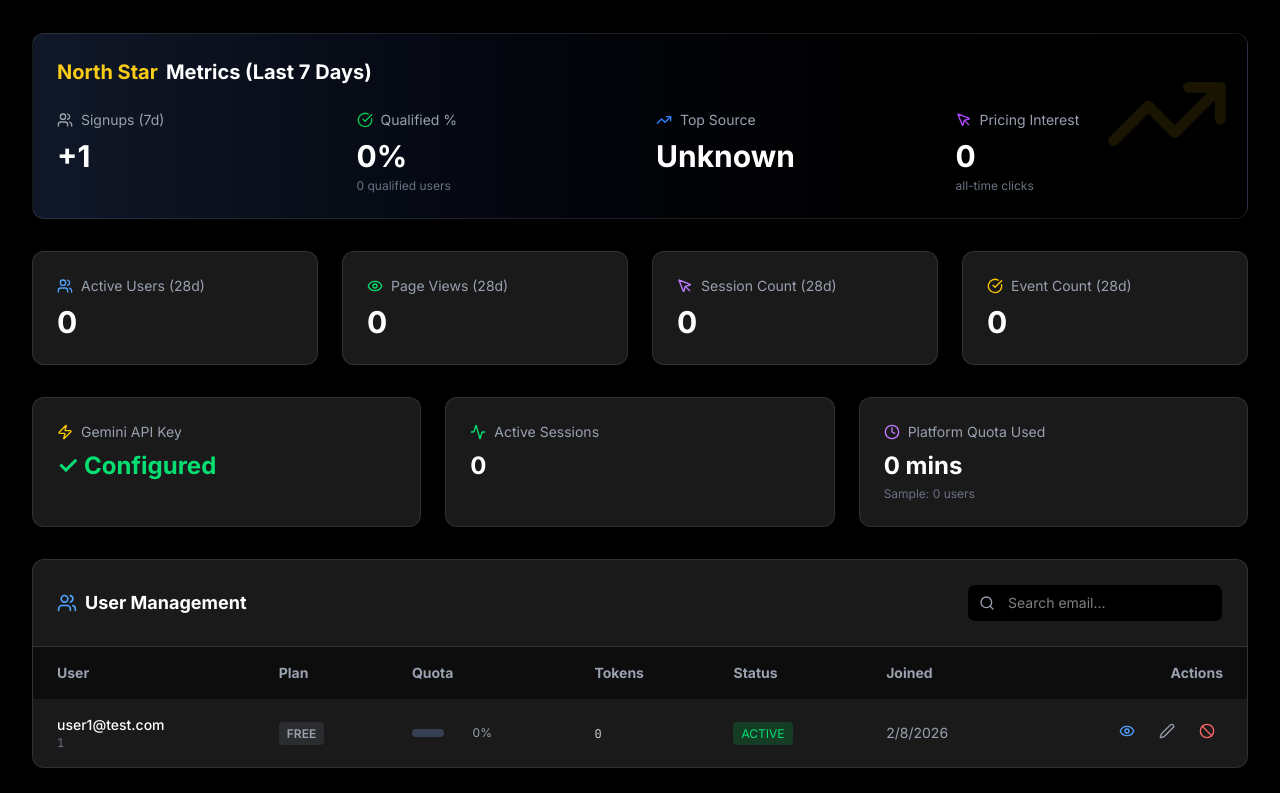
Test case: AdminDashboard › opens user details modal
(page scrolled)
Expected: the text "user1@test.com" is shown, [57,716,164,733]
What coordinates should you click on to do the following:
click the button titled "View Details"
I would click on:
 (1127, 731)
Its box is [1111,715,1143,747].
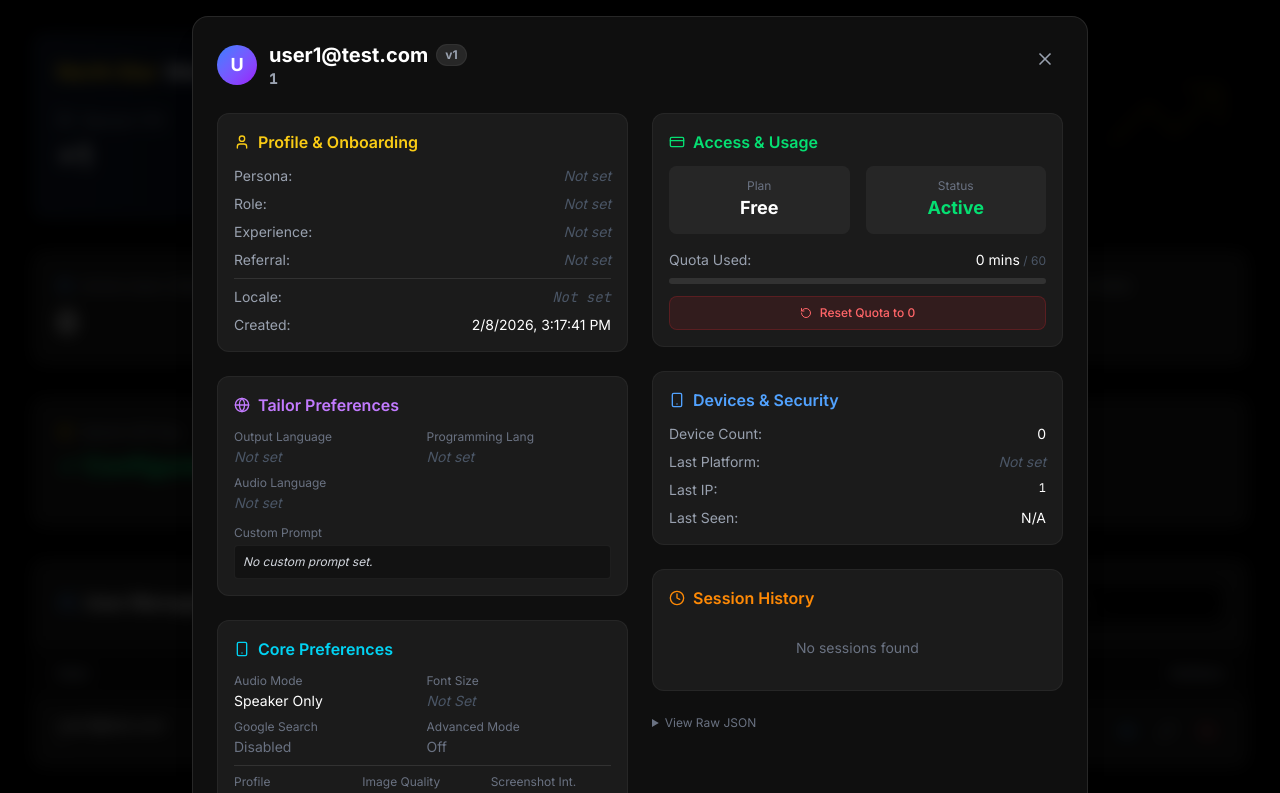
Result: the heading "Profile & Onboarding" is shown at [234,132,418,152]
